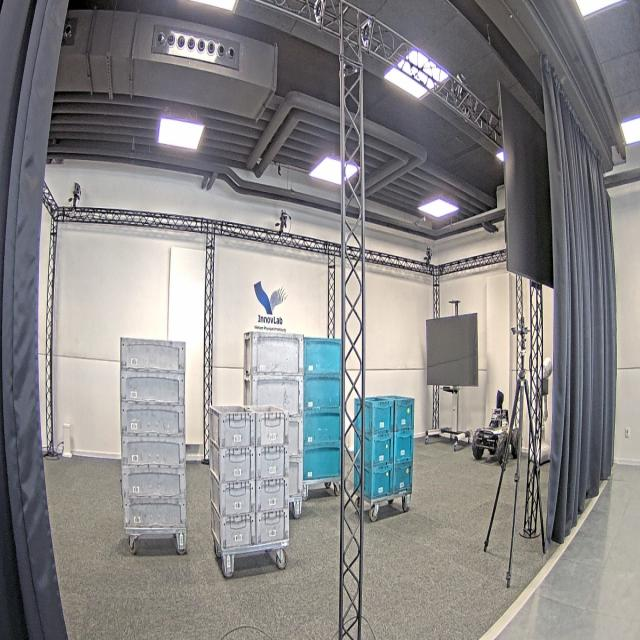Box3G: (118, 369, 185, 409), (118, 336, 186, 374), (119, 402, 185, 440), (119, 434, 186, 471), (120, 465, 186, 501), (124, 496, 189, 530)
Box4G: (247, 326, 305, 376), (250, 374, 304, 418), (284, 457, 304, 499), (284, 418, 304, 458)
Box8G: (208, 406, 256, 449), (210, 504, 256, 548), (209, 472, 255, 515), (209, 441, 255, 483), (255, 509, 291, 547), (255, 444, 289, 480), (254, 410, 287, 446), (254, 478, 290, 510)
BoxB4: (301, 444, 344, 482), (302, 338, 344, 376), (302, 374, 344, 412), (302, 410, 344, 446)
BoxB8: (361, 398, 395, 439), (361, 464, 394, 504), (361, 435, 394, 472), (392, 457, 413, 494), (392, 397, 413, 432), (392, 431, 414, 464)
